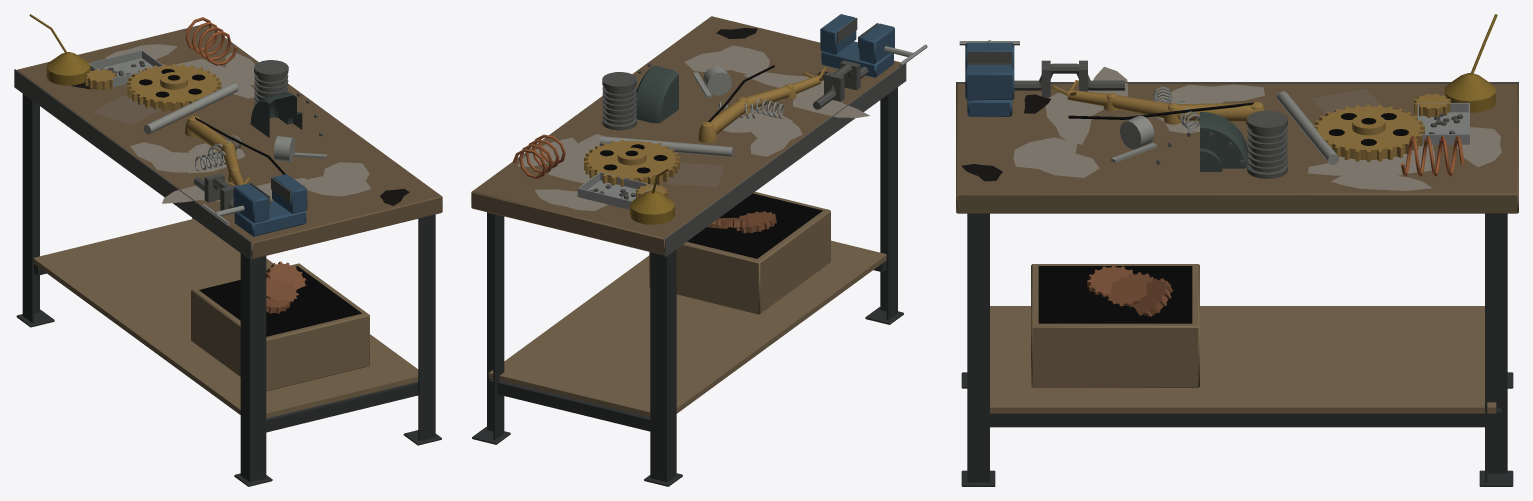
The model's file is macchina_parts.glb.
The picture shows the model from 3 angles, left to right: view 1: azimuth 30°, elevation 25°; view 2: azimuth 150°, elevation 25°; view 3: azimuth 270°, elevation 25°; orthographic projection. The views are drawn at different scales.
Parts seen in each view (by area): view 1: macchina_teile1, macchina_teile2, macchina_teile0, macchina_teile3, macchina_teile15, macchina_teile6, macchina_teile4, macchina_teile14, macchina_teile7, macchina_teile5, macchina_teile8, macchina_teile12 (+3 smaller); view 2: macchina_teile1, macchina_teile2, macchina_teile0, macchina_teile3, macchina_teile15, macchina_teile6, macchina_teile4, macchina_teile14, macchina_teile7, macchina_teile8, macchina_teile11, macchina_teile12 (+3 smaller); view 3: macchina_teile1, macchina_teile2, macchina_teile0, macchina_teile15, macchina_teile6, macchina_teile4, macchina_teile3, macchina_teile14, macchina_teile7, macchina_teile5, macchina_teile8, macchina_teile12 (+5 smaller).
Part boxes in pixels (x1=…): macchina_teile1: x1=34, y1=219, x2=418, y2=418; macchina_teile2: x1=17, y1=25, x2=442, y2=258; macchina_teile0: x1=16, y1=94, x2=441, y2=486; macchina_teile3: x1=14, y1=60, x2=322, y2=260; macchina_teile15: x1=105, y1=44, x2=370, y2=203; macchina_teile6: x1=85, y1=63, x2=250, y2=185; macchina_teile4: x1=139, y1=69, x2=361, y2=336; macchina_teile14: x1=233, y1=174, x2=307, y2=236; macchina_teile7: x1=143, y1=83, x2=327, y2=225; macchina_teile5: x1=266, y1=261, x2=306, y2=313; macchina_teile8: x1=250, y1=92, x2=302, y2=137; macchina_teile12: x1=29, y1=14, x2=90, y2=85; macchina_teile1: x1=488, y1=192, x2=886, y2=417; macchina_teile2: x1=471, y1=16, x2=900, y2=255; macchina_teile0: x1=472, y1=87, x2=903, y2=486; macchina_teile3: x1=589, y1=17, x2=906, y2=256; macchina_teile15: x1=517, y1=45, x2=869, y2=210; macchina_teile6: x1=584, y1=67, x2=826, y2=197; macchina_teile4: x1=600, y1=144, x2=822, y2=258; macchina_teile14: x1=820, y1=14, x2=894, y2=77; macchina_teile7: x1=599, y1=44, x2=927, y2=156; macchina_teile8: x1=636, y1=65, x2=678, y2=123; macchina_teile11: x1=577, y1=172, x2=653, y2=209; macchina_teile12: x1=630, y1=168, x2=674, y2=224; macchina_teile1: x1=990, y1=264, x2=1496, y2=413; macchina_teile2: x1=956, y1=83, x2=1518, y2=213; macchina_teile0: x1=961, y1=213, x2=1513, y2=486; macchina_teile15: x1=1013, y1=66, x2=1501, y2=190; macchina_teile6: x1=1051, y1=80, x2=1450, y2=161; macchina_teile4: x1=1038, y1=113, x2=1408, y2=323; macchina_teile3: x1=956, y1=51, x2=1518, y2=178; macchina_teile14: x1=965, y1=42, x2=1014, y2=116; macchina_teile7: x1=959, y1=40, x2=1338, y2=164; macchina_teile5: x1=1087, y1=265, x2=1172, y2=316; macchina_teile8: x1=1200, y1=111, x2=1248, y2=171; macchina_teile12: x1=1444, y1=14, x2=1497, y2=112.
Size of the model in its own units: 0.8069 by 1.07 by 1.5.
